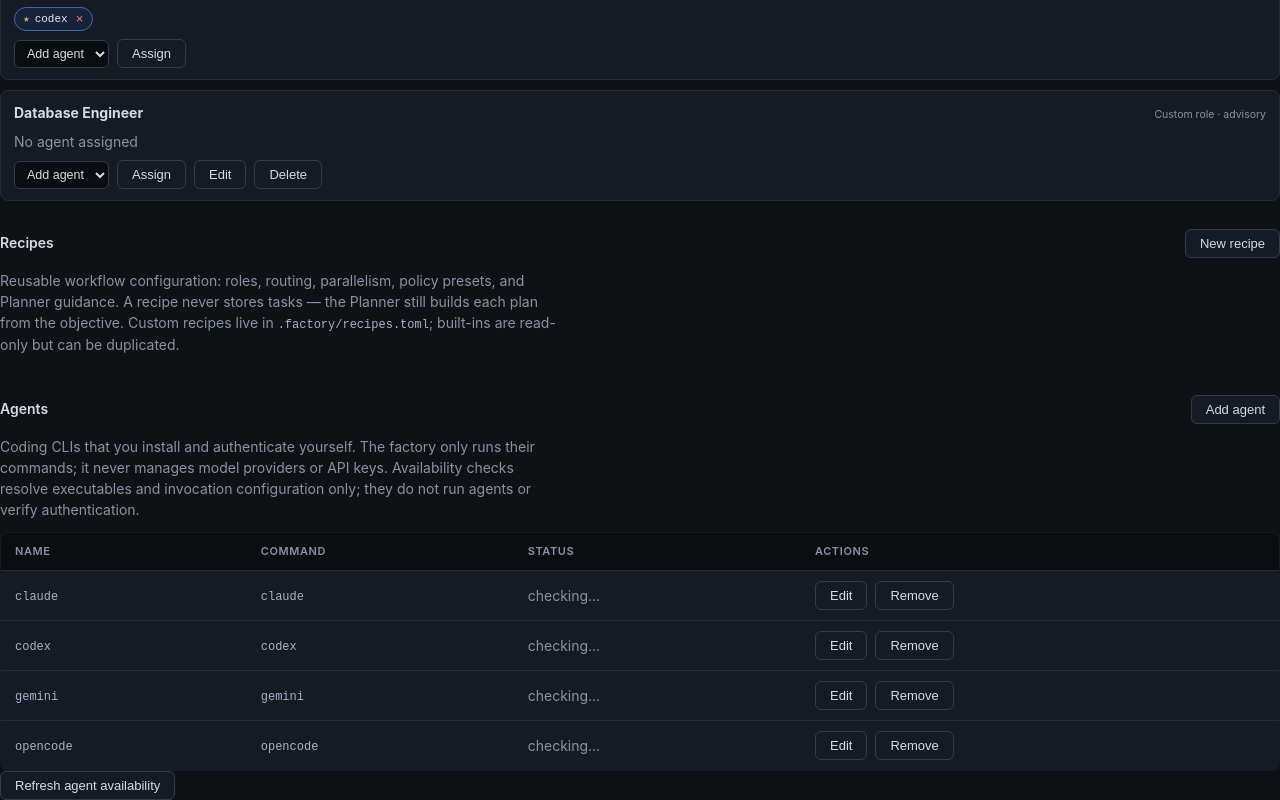
Scenario: Settings agents › opens an existing agent editor and prefills API-shaped values when env is omitted
The width and height of the screenshot is (1280, 800).
(page scrolled)
What coordinates should you click on to do the following:
click the 5th button "Edit"
I would click on:
 (841, 745)
Its box is [815,730,867,760].
(page scrolled)
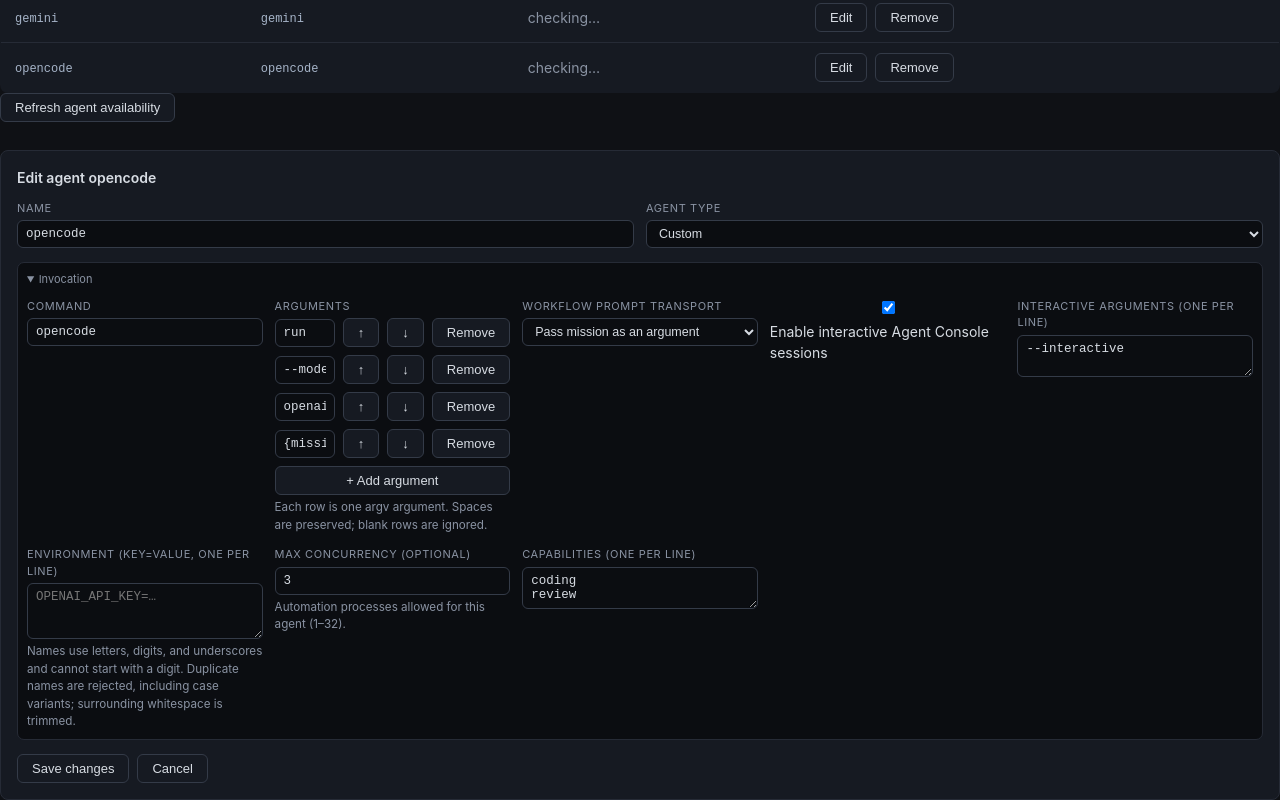
Expected: the element named "Agent configuration form" is shown
Expected: the field labelled "Name" holds "opencode", [17,220,634,248]
Expected: the field labelled "Command" holds "opencode", [27,318,263,346]
